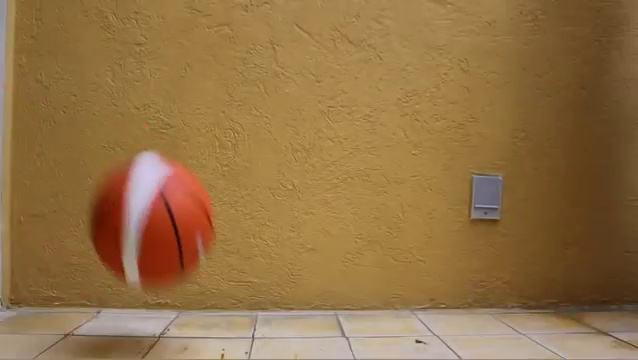ball: (88, 149, 215, 291)
